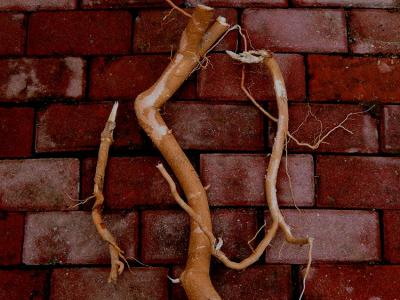Root: (134, 0, 311, 299), (92, 102, 125, 280)
